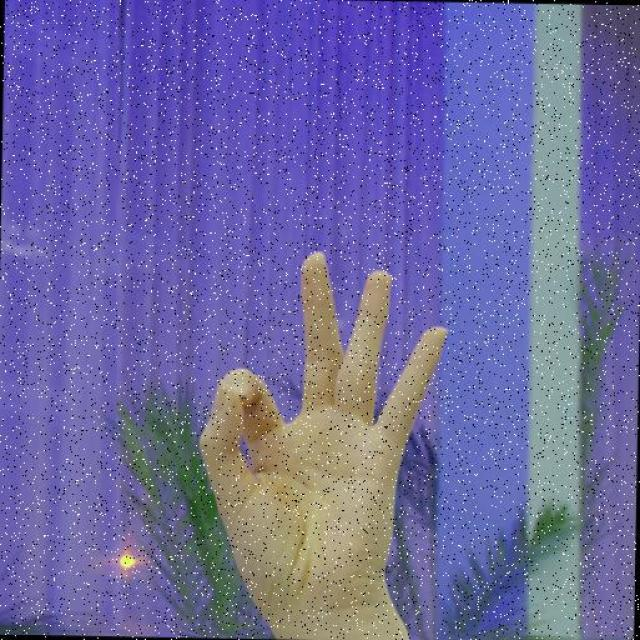F: (194, 247, 453, 618)
